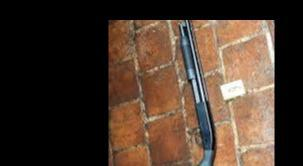larga: (178, 20, 217, 166)
